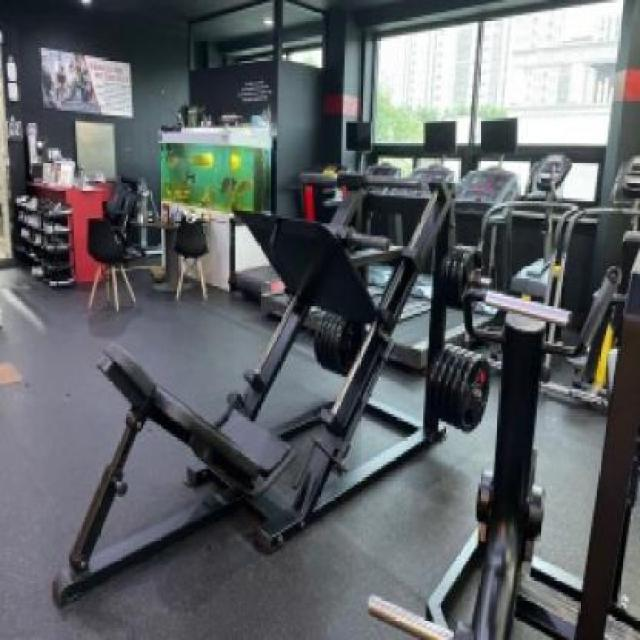leg press: (44, 143, 502, 625)
